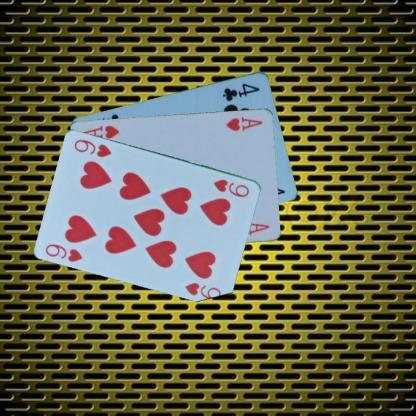4c: (220, 80, 261, 102)
9h: (43, 241, 84, 263), (211, 176, 251, 198)
Ah: (223, 114, 264, 132)
